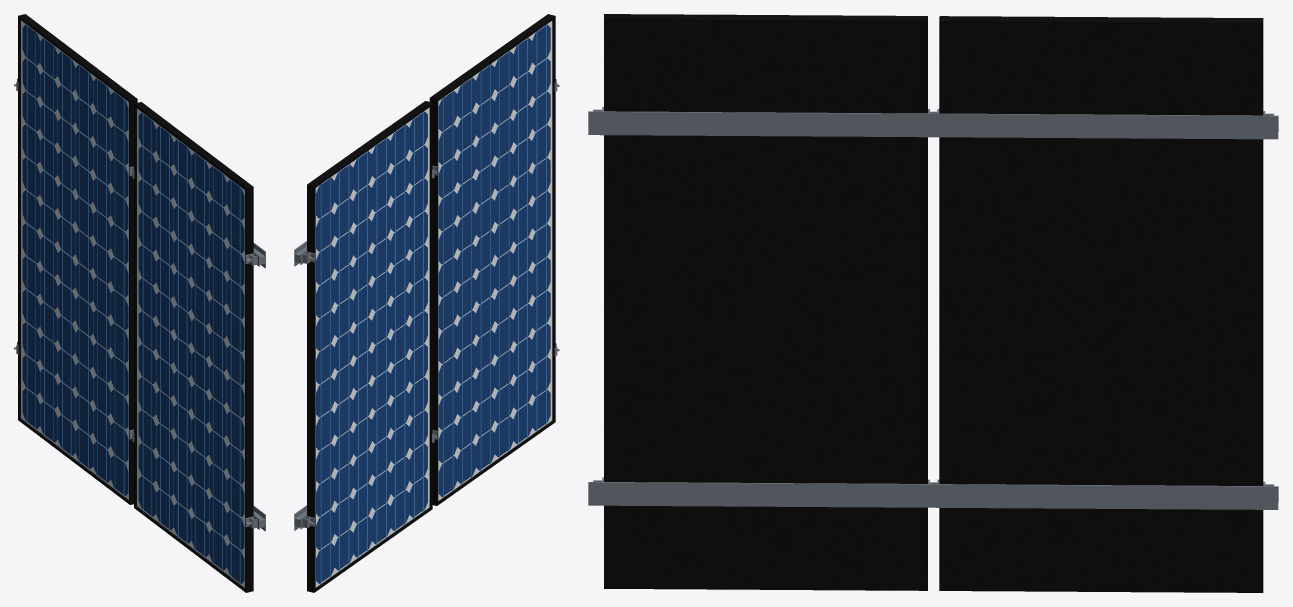
File: Crystal3.obj
The picture shows the model from 3 angles, left to right: view 1: azimuth 30°, elevation 25°; view 2: azimuth 150°, elevation 25°; view 3: azimuth 270°, elevation 25°; orthographic projection. The views are drawn at different scales.
Parts seen in each view (by area): view 1: small_032panels, panel, wire, Default; view 2: small_032panels, panel, wire, Default; view 3: panel, Default.
Boxes of the visible parts, left/top/right/bottom form: small_032panels: left=22, top=24, right=244, bottom=583; panel: left=18, top=14, right=253, bottom=592; wire: left=26, top=25, right=240, bottom=584; Default: left=14, top=78, right=265, bottom=531; small_032panels: left=316, top=24, right=550, bottom=583; panel: left=307, top=14, right=555, bottom=592; wire: left=320, top=25, right=546, bottom=584; Default: left=294, top=79, right=559, bottom=530; panel: left=604, top=14, right=1263, bottom=592; Default: left=588, top=107, right=1278, bottom=509.
Size of the model in its own units: 8.77 by 152 by 167.
2 materials, 2 textured.
